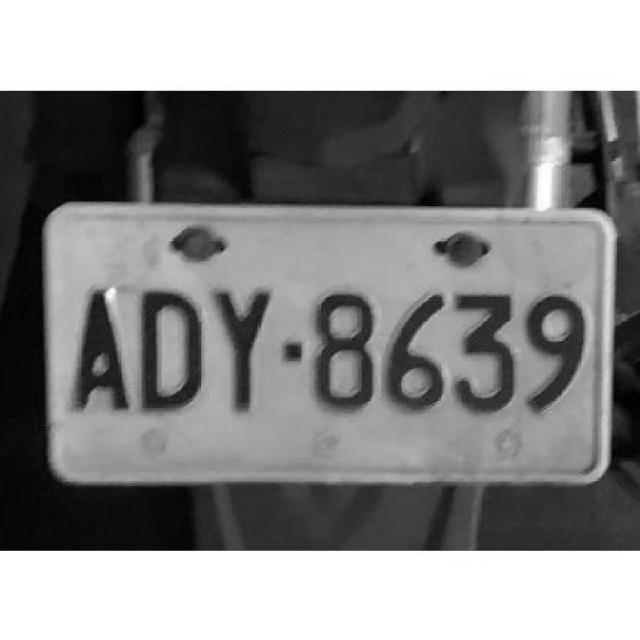-: (282, 343, 303, 363)
3: (452, 288, 517, 412)
6: (382, 289, 448, 409)
8: (308, 283, 374, 417)
9: (520, 292, 586, 411)
A: (72, 284, 134, 418)
D: (136, 283, 207, 415)
Y: (211, 286, 274, 412)
